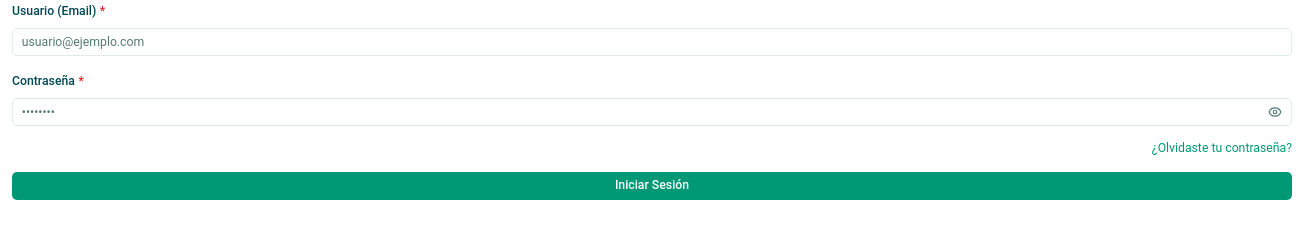
Test: LoginForm › Validación de campos › debe mostrar error cuando el usuario está vacío al hacer blur
Click the field with placeholder "usuario@ejemplo.com".
click(652, 42)  # box [12, 28, 1292, 56]
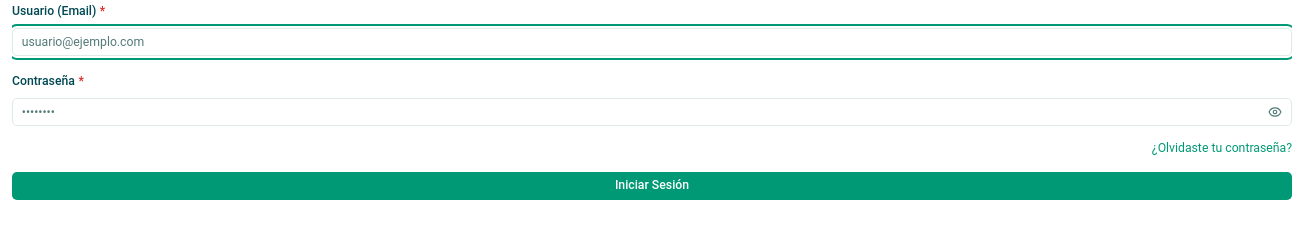
Press Tab
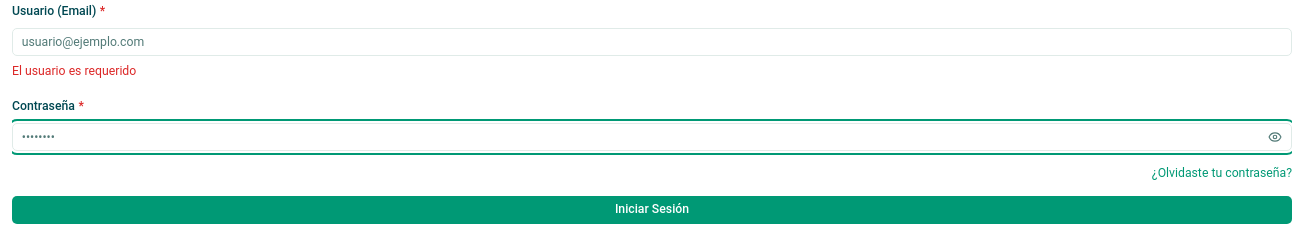
Now the text "El usuario es requerido" is shown, box [12, 64, 136, 78]
